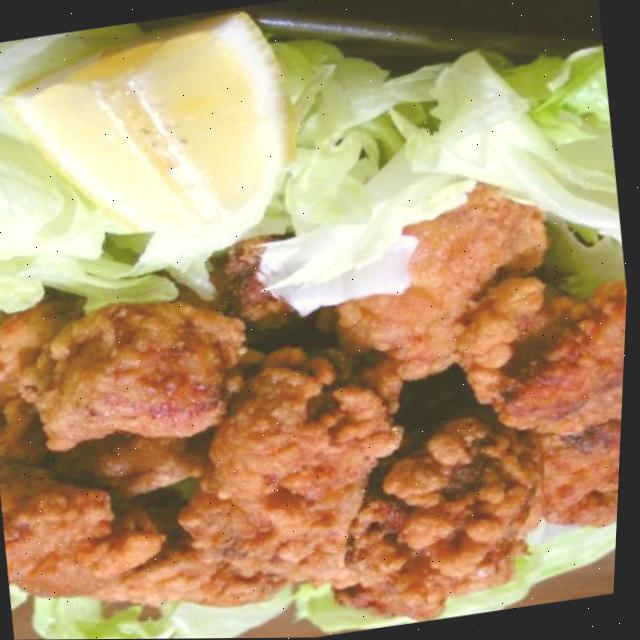鸡肉料理 含炸鸡: (0, 282, 630, 640)
